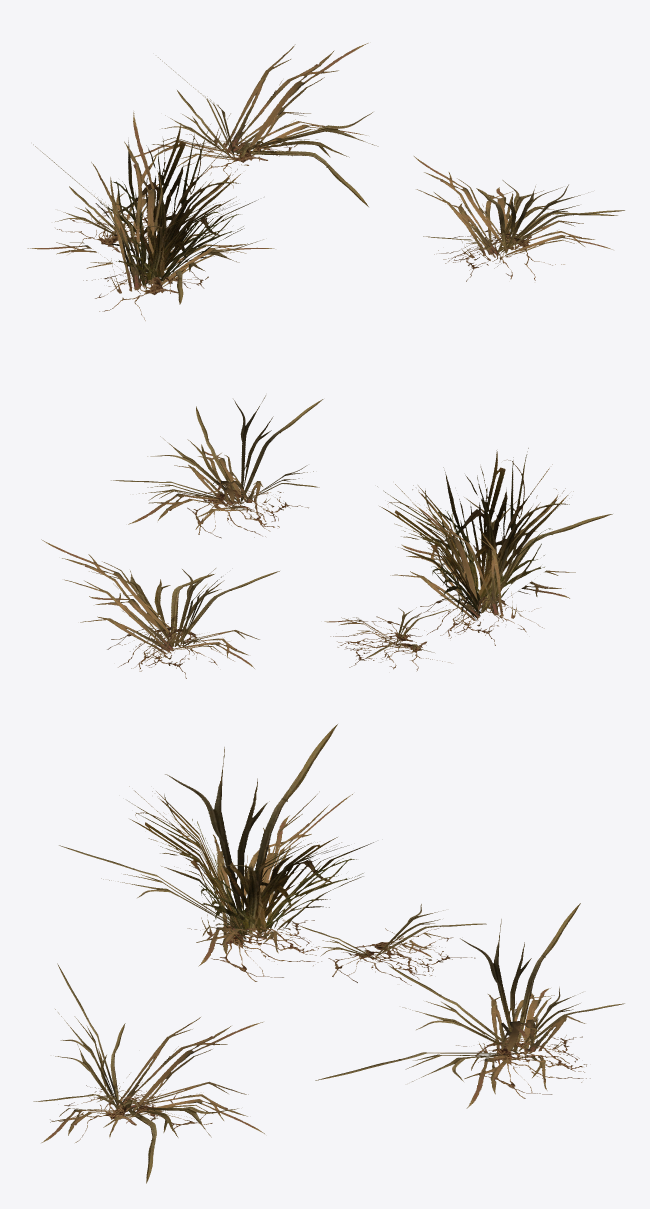
File: VegetationOasis001b.glb
3 renders of one model, top to bottom at view 1: azimuth 30°, elevation 25°; view 2: azimuth 150°, elevation 25°; view 3: azimuth 270°, elevation 25°, orthographic. The views are drawn at different scales.
Parts seen in each view (by area): view 1: vegetation_oasis001b; view 2: vegetation_oasis001b; view 3: vegetation_oasis001b.
Boxes of the visible parts, x1,y1,x2,y2 form: vegetation_oasis001b: (27, 43, 624, 320); vegetation_oasis001b: (41, 395, 612, 678); vegetation_oasis001b: (33, 724, 624, 1183).
Bounding box in the file's own units: 3.28 × 0.9316 × 2.74.
Materials: 1 (1 with a texture image).
